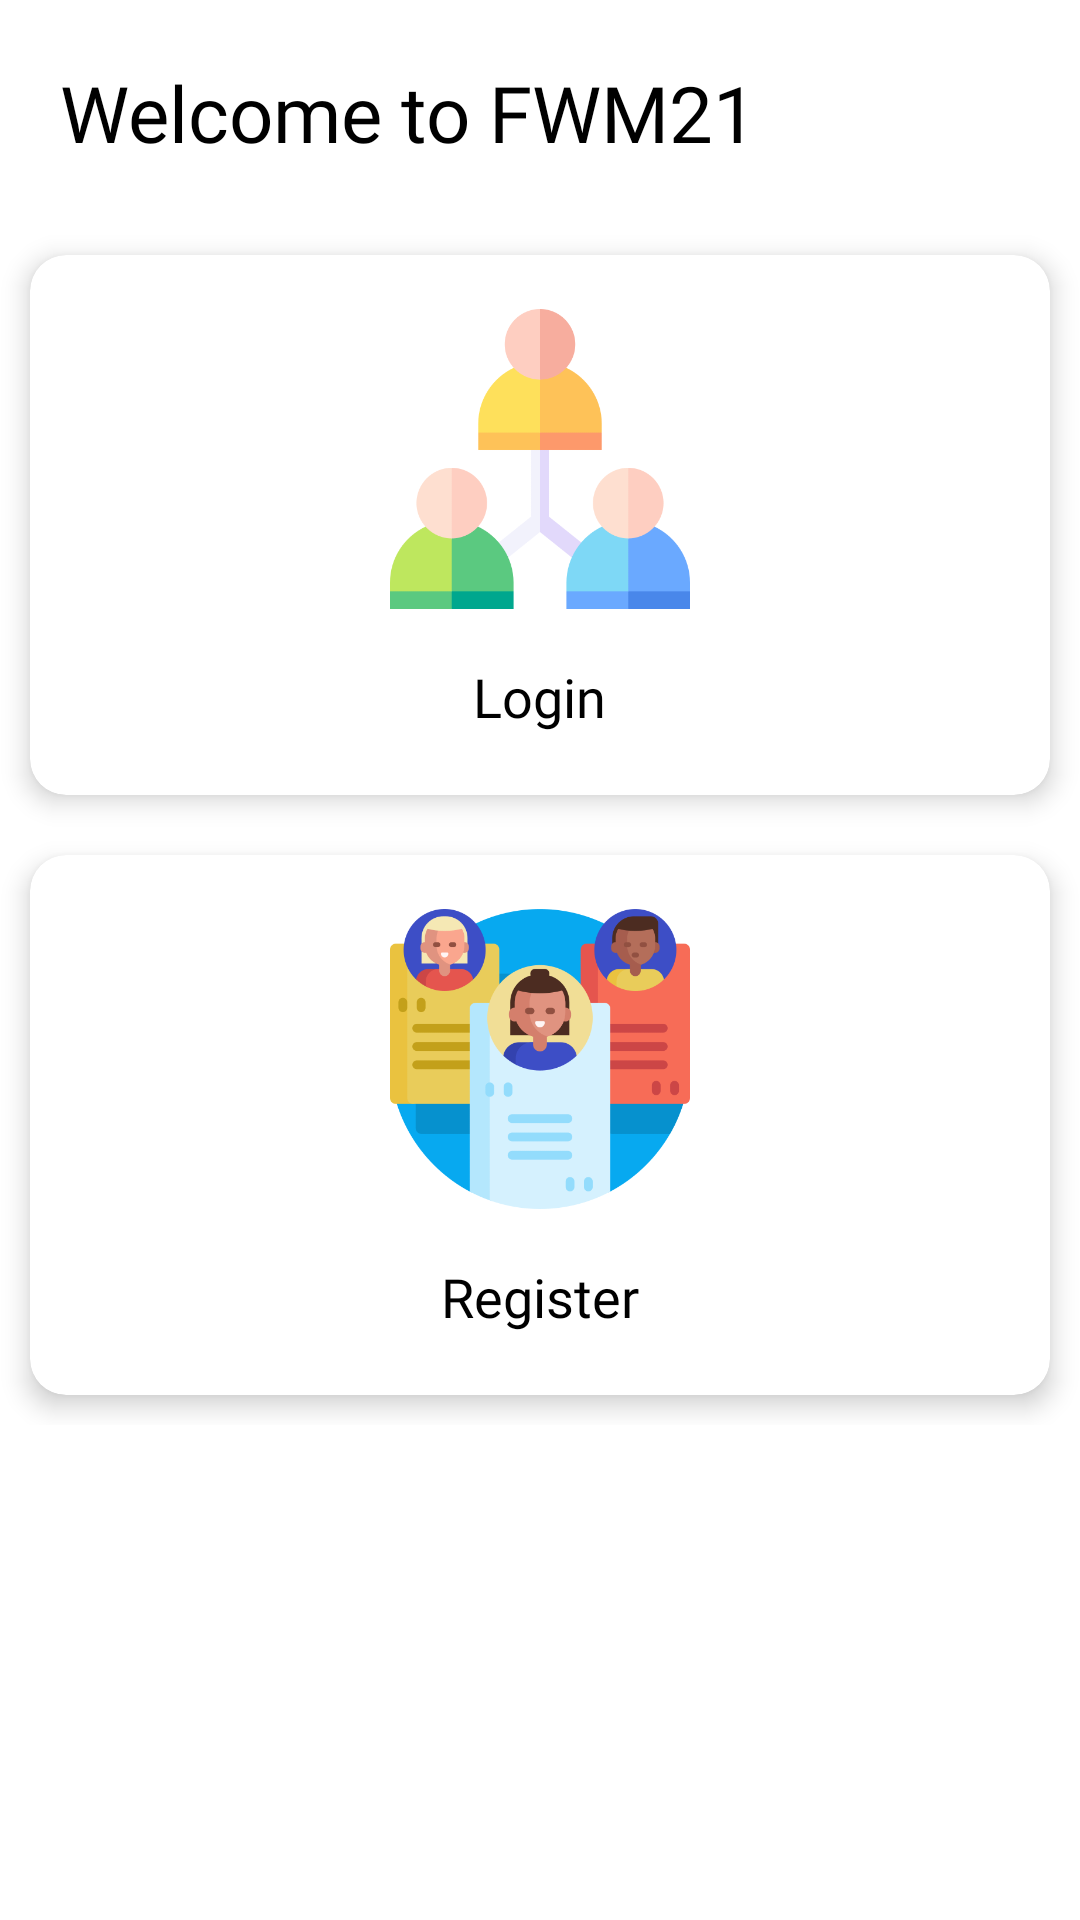

Locate icon controls on the screen. Image size 1080 × 1920, boxes as (x1, y1, x2, y2).
manager: (390, 309, 690, 609)
